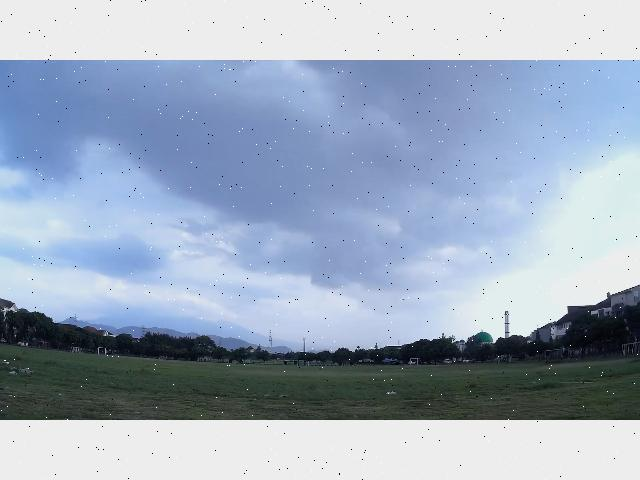Anti-Drone: (390, 295, 422, 307)
